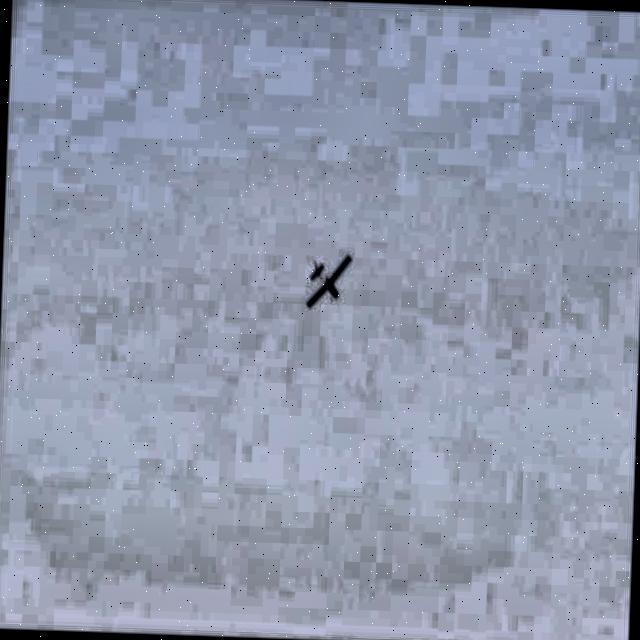iha: (309, 263, 357, 295)
